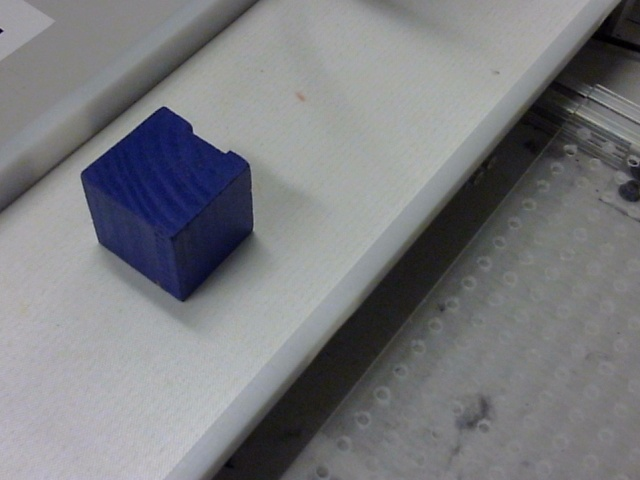BlueBlock: (80, 105, 253, 304)
